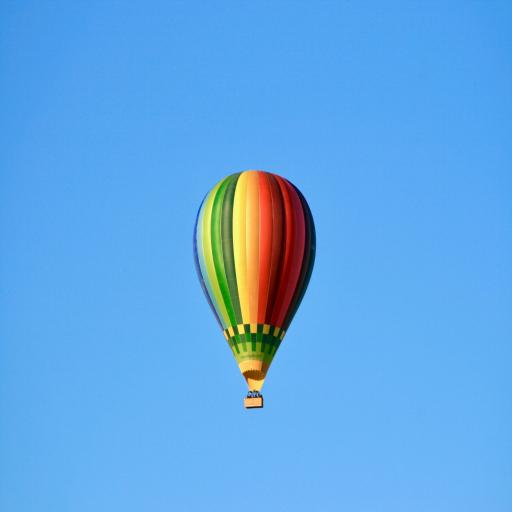hot air ballon: (192, 168, 318, 409)
